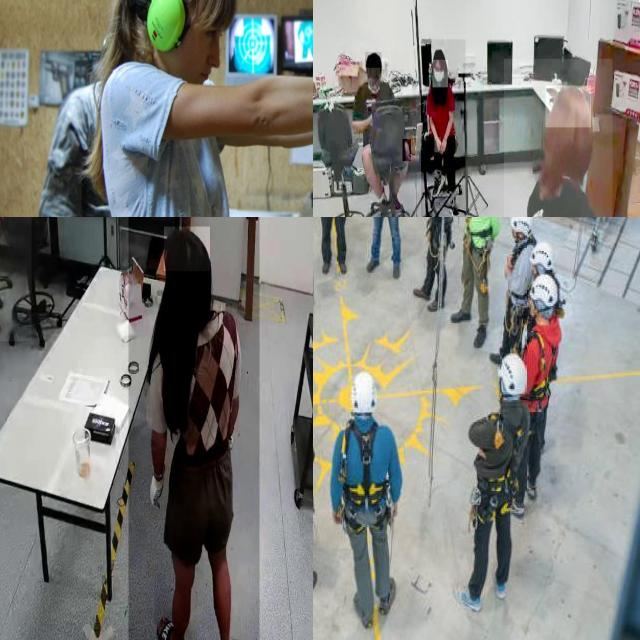Ear-protection: (133, 0, 231, 95)
Harness: (466, 410, 527, 528), (342, 424, 394, 538), (528, 324, 564, 432), (505, 245, 537, 338), (463, 217, 497, 297), (425, 217, 457, 273)
face_mask: (432, 60, 448, 87)
hand_glove: (148, 463, 170, 521)
hand_noglove: (402, 139, 412, 162), (439, 137, 447, 154), (435, 137, 441, 153)
head_nohelmet: (164, 227, 210, 271), (546, 86, 592, 128), (365, 52, 382, 68), (432, 46, 445, 60)
person: (128, 217, 259, 640), (66, 0, 303, 217), (504, 59, 613, 217), (350, 51, 409, 217), (421, 39, 466, 217)
shoes: (429, 166, 445, 201)
